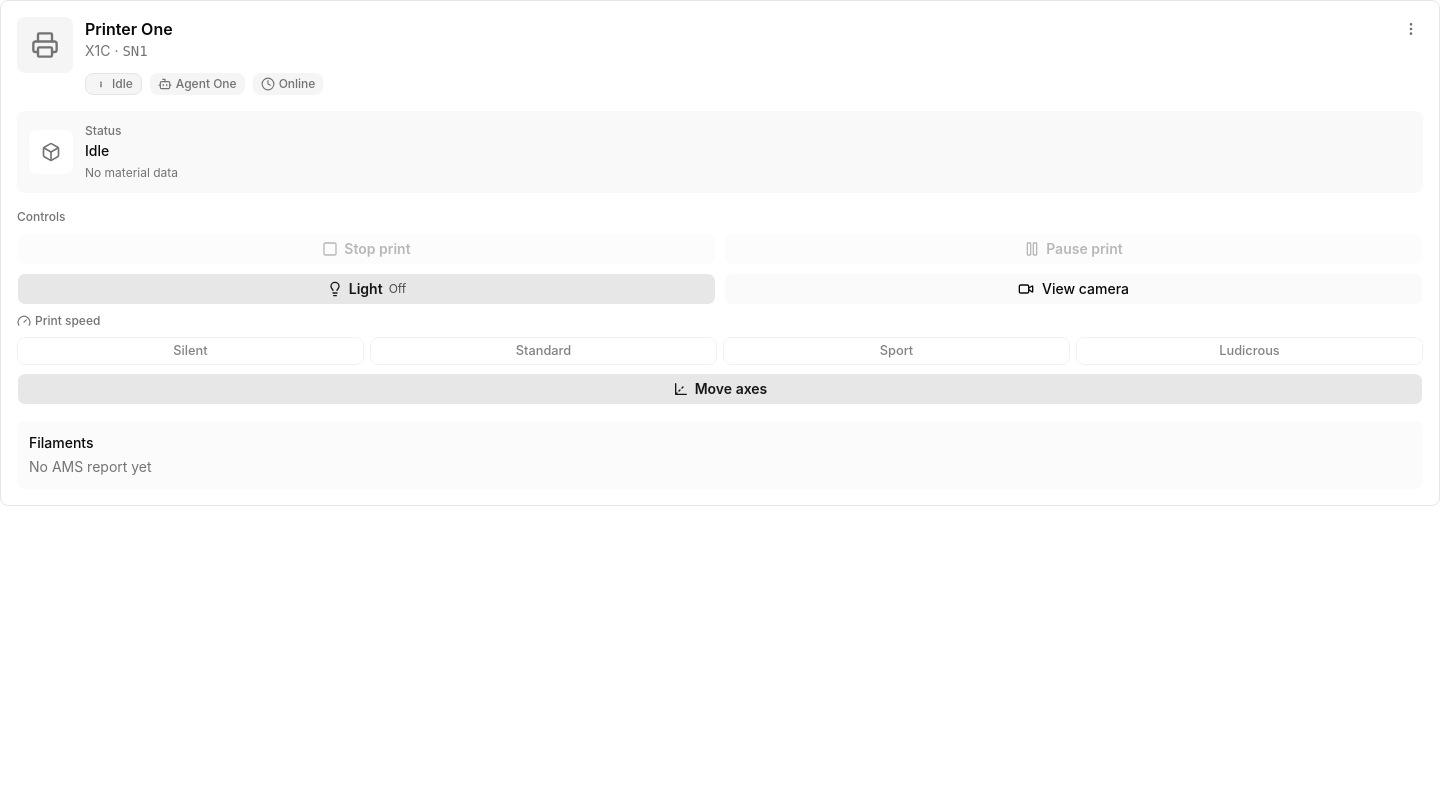
Scenario: PrinterCard actions › closes by Escape and outside interaction
The image size is (1440, 810).
Click the button named "Actions for Printer One". click: click(1411, 29)
box: x1=1399 y1=17 x2=1423 y2=41
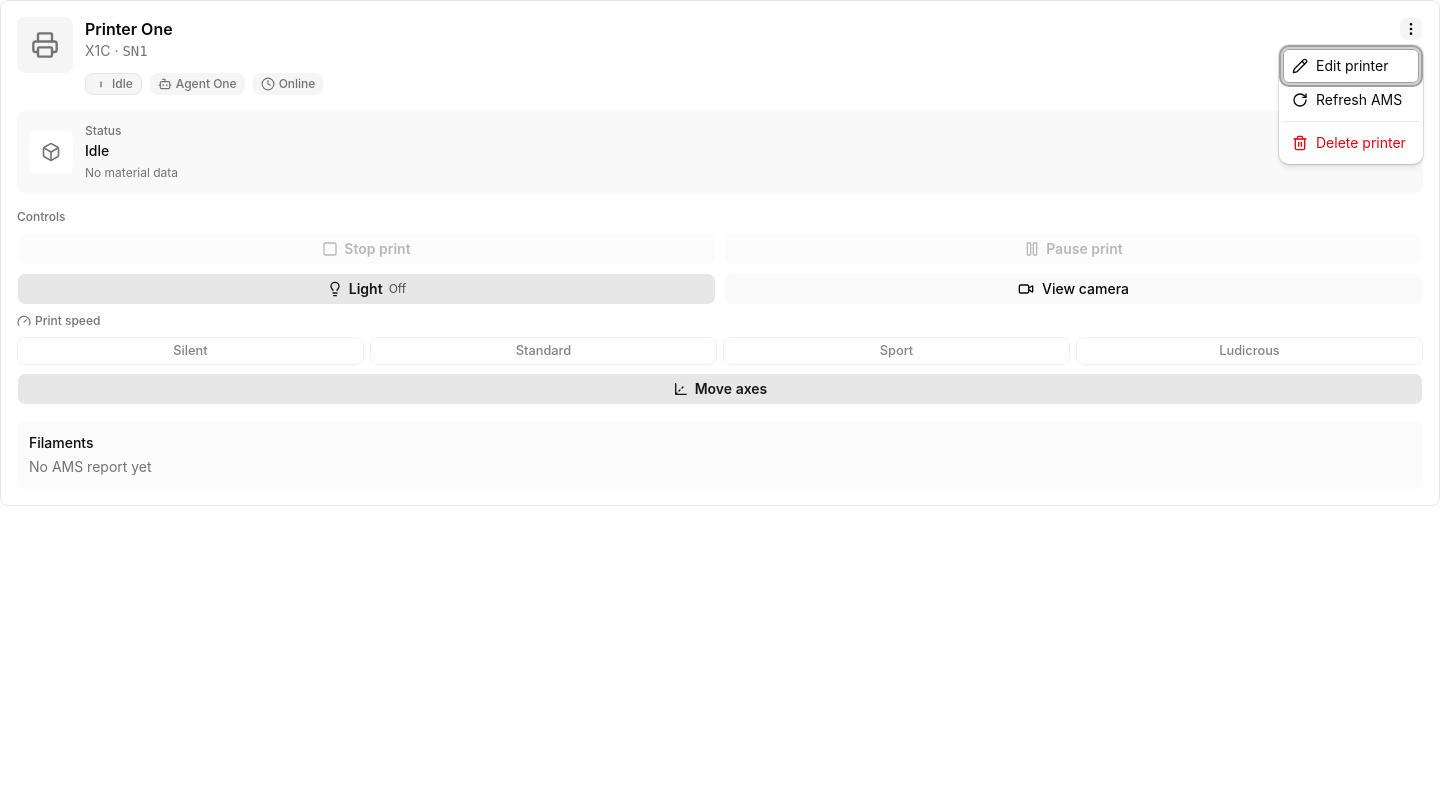
Press Escape
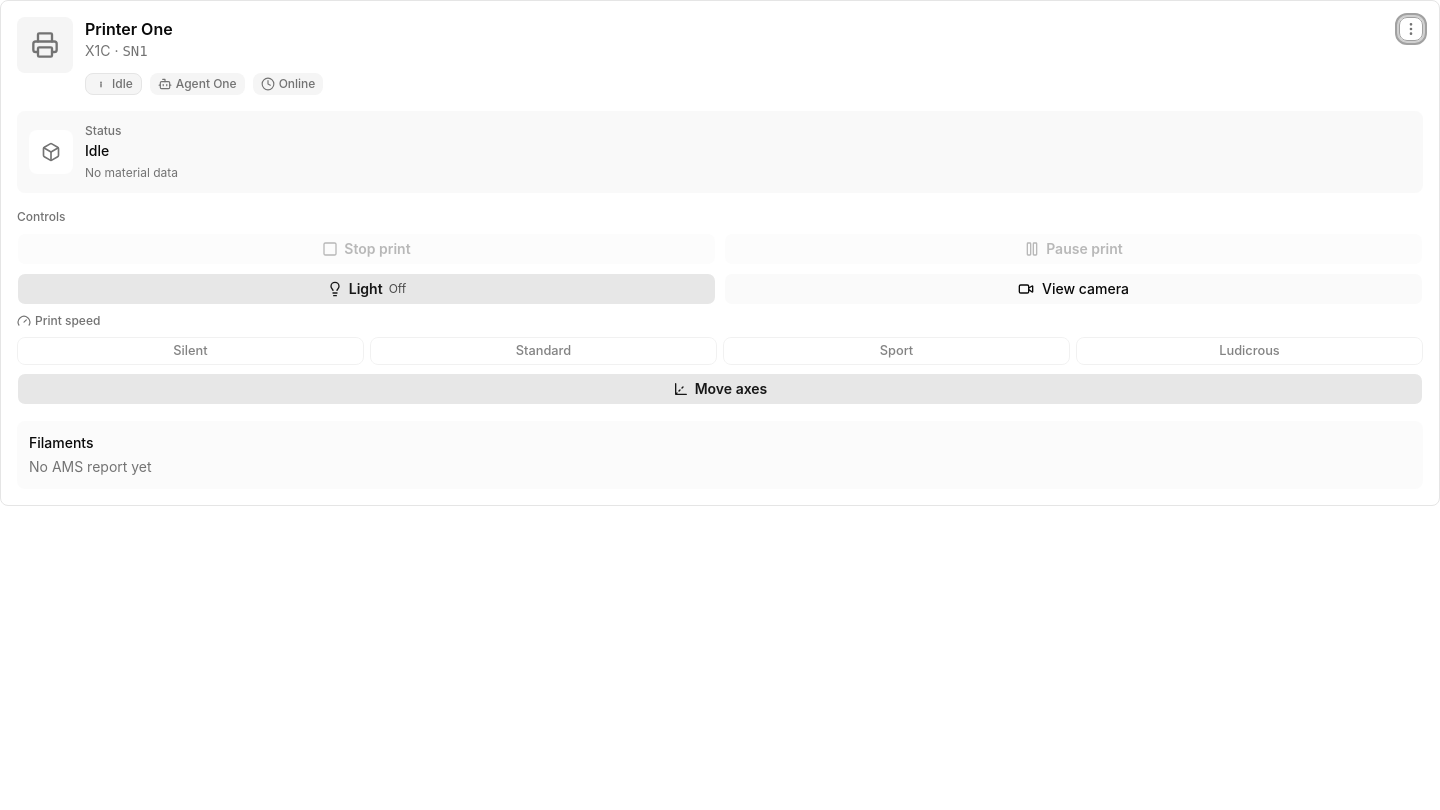
Result: the button "Edit printer" is gone
Click the button named "Actions for Printer One". click: click(1411, 29)
box: x1=1399 y1=17 x2=1423 y2=41
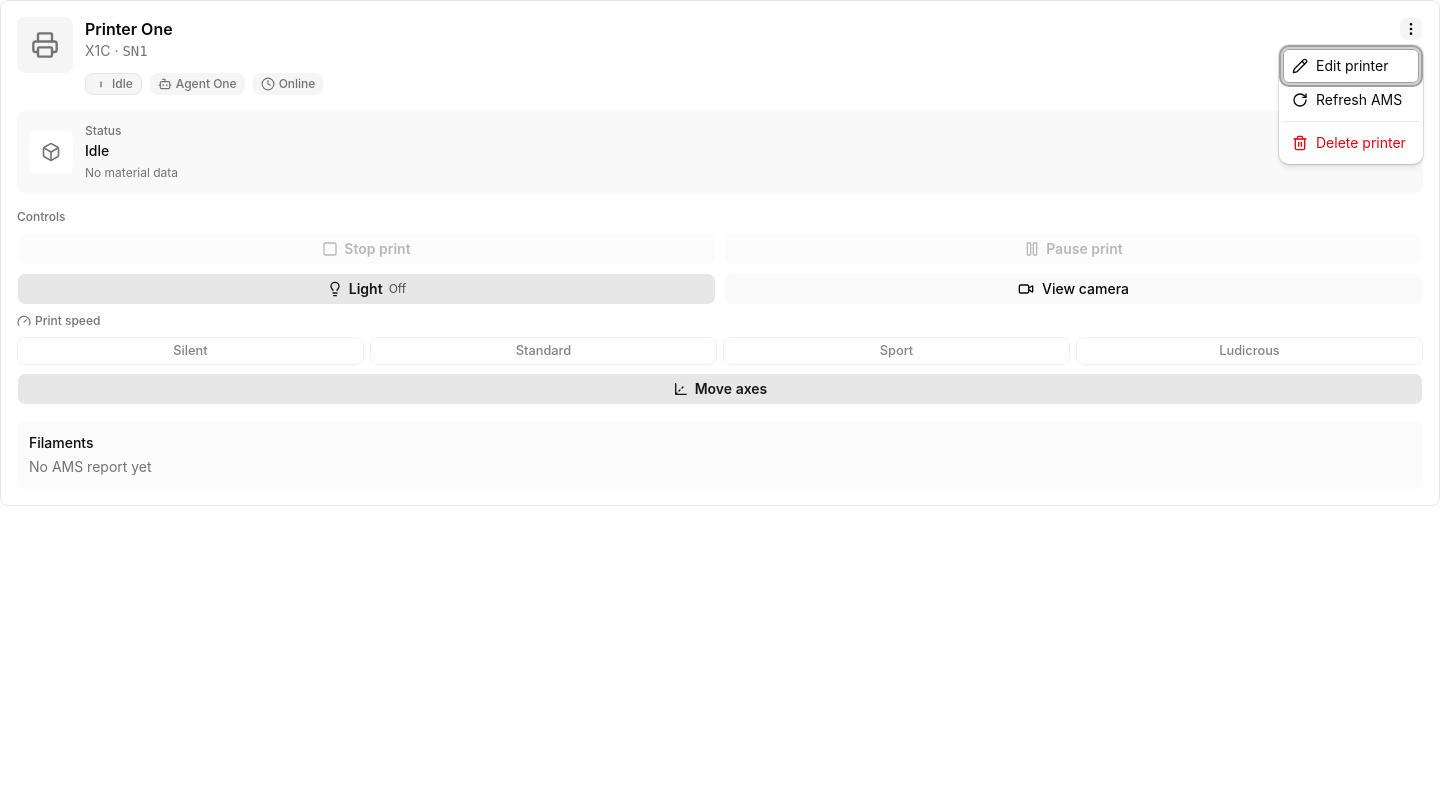
Result: the button "Edit printer" is shown at x1=1283 y1=49 x2=1419 y2=83
Click the element that starts with "Printer One". click: click(720, 253)
box: x1=0 y1=0 x2=1439 y2=506
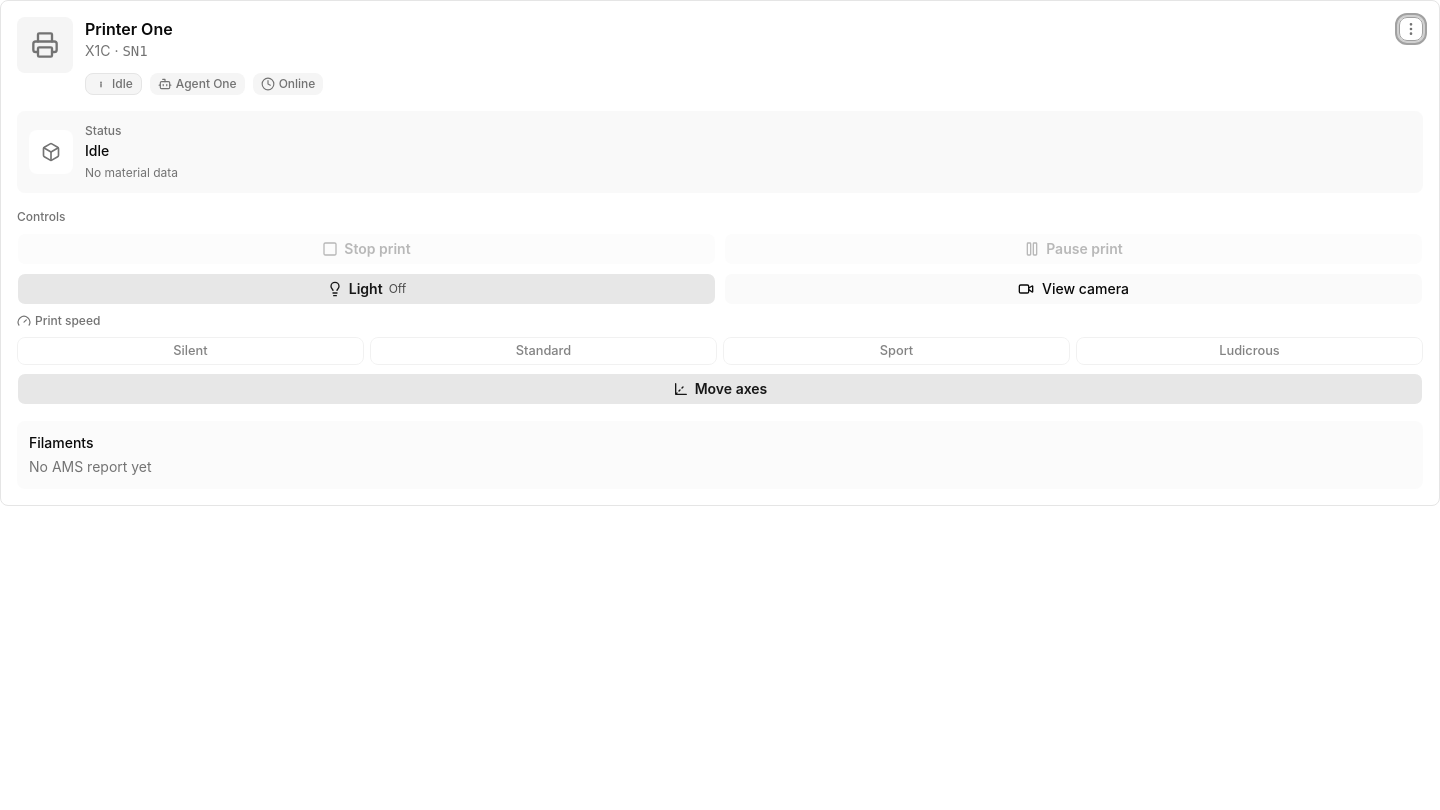
Result: the button "Edit printer" is gone
